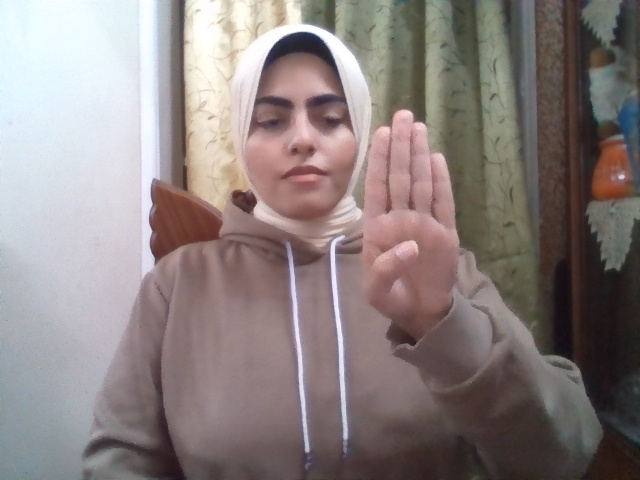B: (361, 109, 460, 322)
